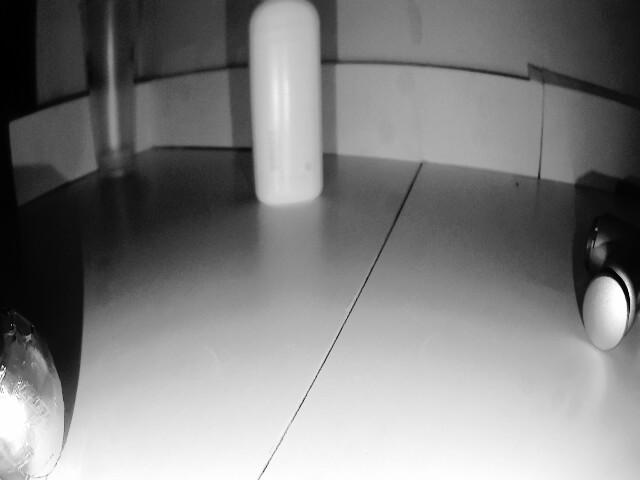silver: (0, 303, 70, 477)
